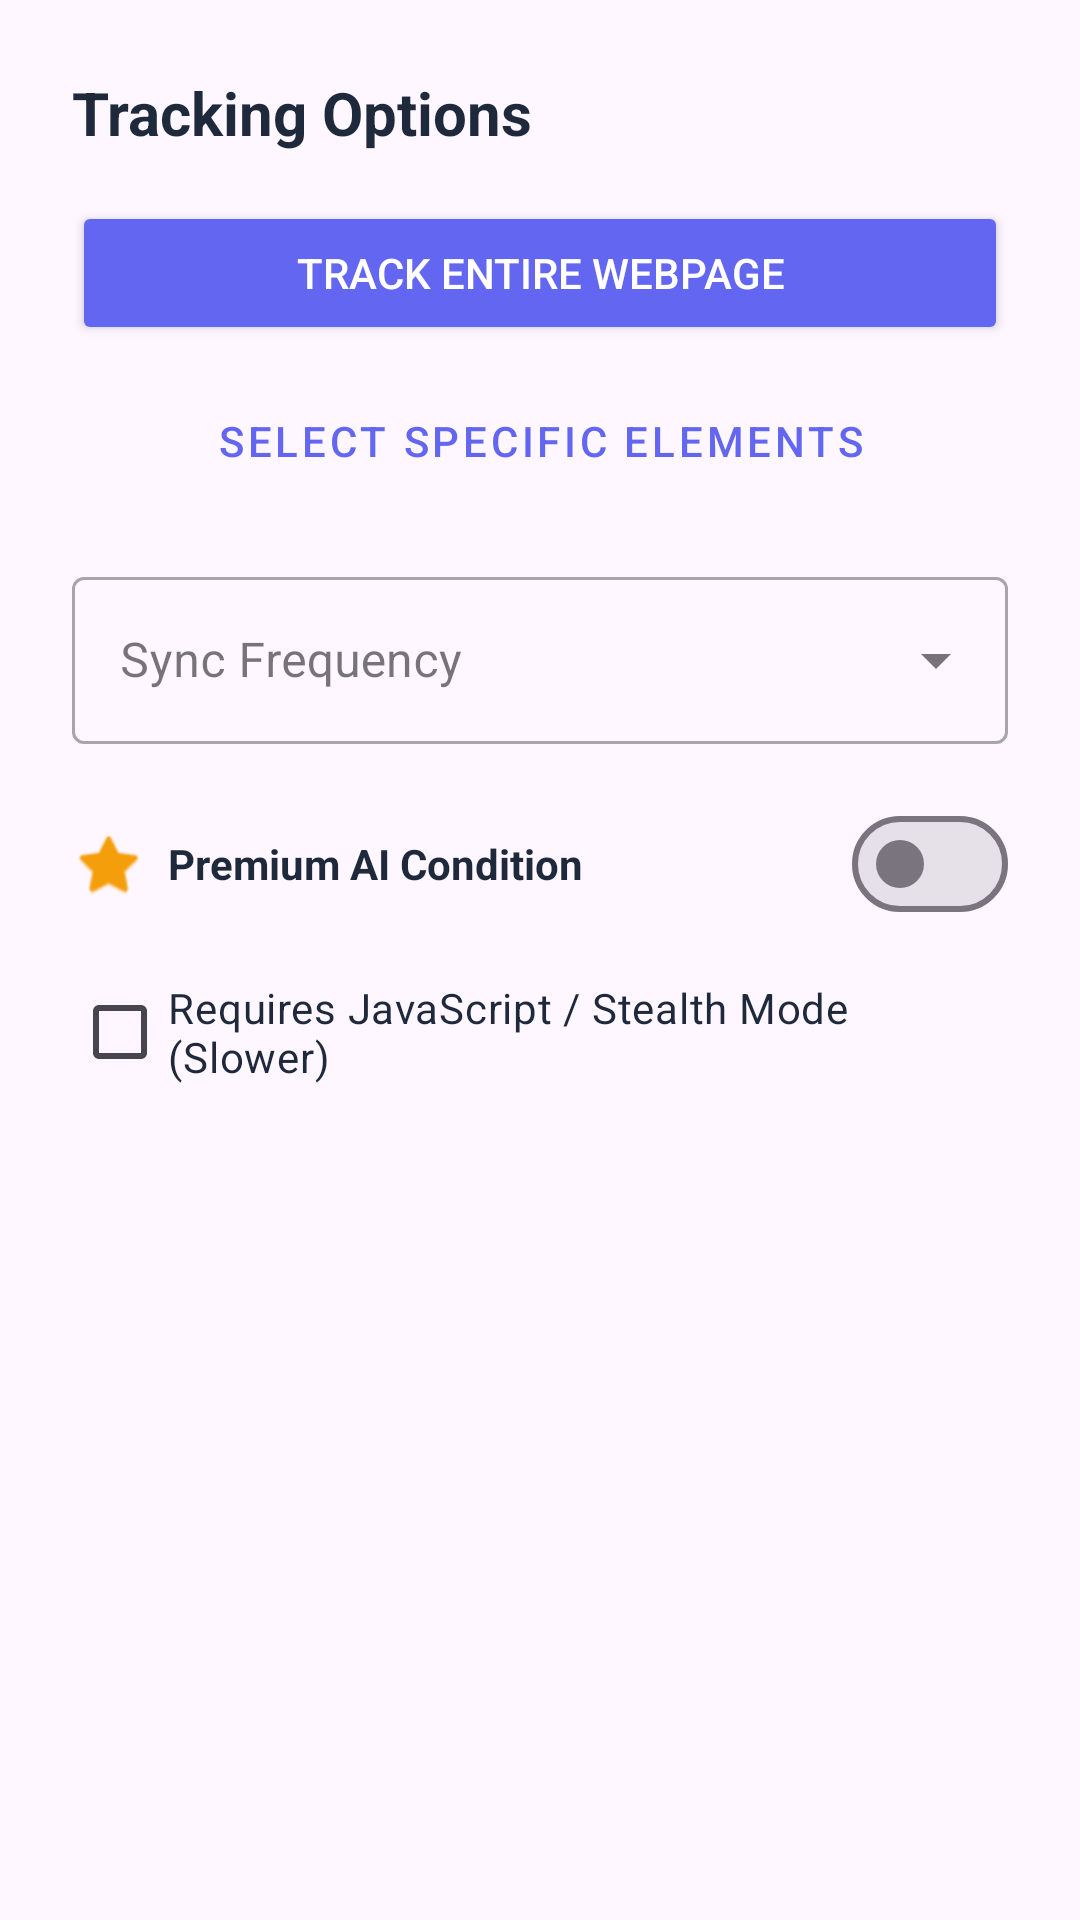

Screen size 1080px×1920px. Icon name, then its box in pixels as bbox(x1, y1, x2, y2):
star on: bbox(78, 835, 139, 894)
